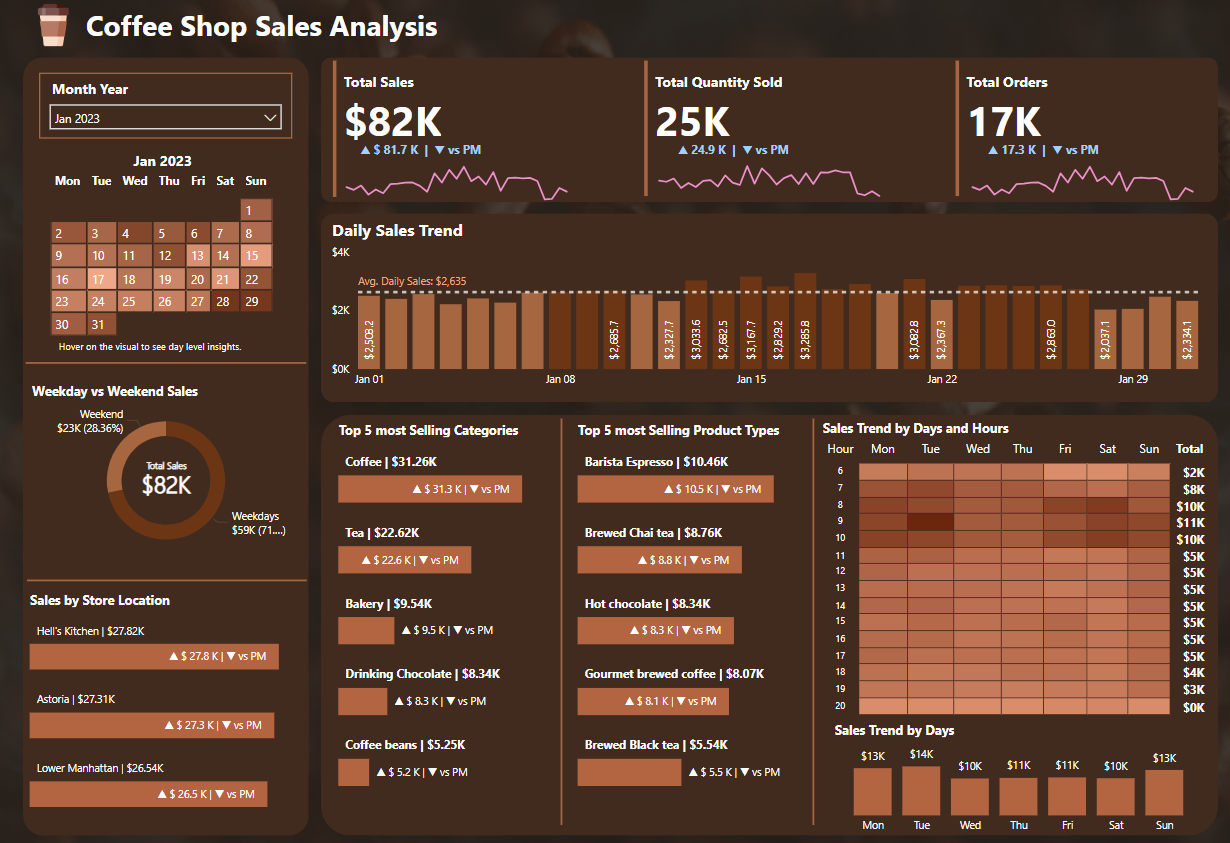

This screenshot's page, from the dashboard's own definition file:
{"tool":"powerbi","page":{"name":"Coffee Sales Dashboard","canvas":[1400,960],"ordinal":0},"visuals":[{"type":"cardVisual","fields":{"Data":["Sum(fact_transactions.sales_amount)"]},"box":[365.9,64.3,300,165.3],"z":0,"group":"g1"},{"type":"cardVisual","fields":{"Data":["Sum(fact_transactions.transaction_qty)"]},"box":[720.1,64.3,300,164.3],"z":0,"group":"g2"},{"type":"cardVisual","fields":{"Data":["fact_transactions.cm_orders"]},"box":[1074.3,64.3,300,164.3],"z":0,"group":"g3"},{"type":"pivotTable","fields":{"Rows":["fact_transactions.week_num"],"Columns":["fact_transactions.Day"],"Values":["Min(fact_transactions.day_num)"]},"box":[33.9,209.1,305.5,182.7],"z":0,"group":"g4"},{"type":"shape","box":[27.5,65,325,885],"z":1000},{"type":"lineChart","fields":{"Y":["Sum(fact_transactions.sales_amount)"],"Category":["dim_date.Date"]},"box":[735.8,169.6,280.5,64.5],"z":1000,"group":"g2"},{"type":"lineChart","fields":{"Y":["Sum(fact_transactions.sales_amount)"],"Category":["dim_date.Date"]},"box":[1092.1,169.7,280.5,64.5],"z":1000,"group":"g3"},{"type":"lineChart","fields":{"Y":["Sum(fact_transactions.sales_amount)"],"Category":["dim_date.Date"]},"box":[380,170,280.5,64.5],"z":1000,"group":"g1"},{"type":"card","fields":{"Values":["Min(dim_date.month_year)"]},"box":[124.8,172.7,123.6,50],"z":1000,"group":"g4"},{"type":"textbox","title":"Coffee Shop Sales Analysis","box":[93.7,7,968.2,188.5],"z":1500},{"type":"shape","box":[365.9,65.3,1020,164.8],"z":2000},{"type":"card","fields":{"Values":["fact_transactions.orders_mom_diff"]},"box":[1080,147.2,215.7,51.4],"z":2000,"group":"g3"},{"type":"card","fields":{"Values":["fact_transactions.quantity_mom_diff"]},"box":[727.8,147.6,215.5,50.5],"z":2000,"group":"g2"},{"type":"card","fields":{"Values":["fact_transactions.sales_mom_diff"]},"box":[372,148,215.5,50.5],"z":2000,"group":"g1"},{"type":"slicer","fields":{"Values":["dim_date.month_year"]},"box":[45.6,83,287.5,74.8],"z":4000},{"type":"group","id":"g1","title":"Group 1","box":[365.9,64.3,300,170.2],"z":5000},{"type":"group","id":"g2","title":"Group 2","box":[720.1,64.3,300,169.8],"z":6000},{"type":"group","id":"g3","title":"Group 3","box":[1074.3,64.3,300,169.9],"z":7000},{"type":"group","id":"g4","title":"Group 4","box":[33.9,172.7,305.5,219.1],"z":8000},{"type":"textbox","box":[63.2,378,266,28],"z":9000},{"type":"shape","box":[30.4,400.8,319,23.4],"z":10000},{"type":"donutChart","title":"Weekday vs Weekend Sales","fields":{"Y":["Sum(fact_transactions.sales_amount)"],"Category":["dim_date.Day Name"]},"box":[32.7,433.6,315.5,206.8],"z":11000},{"type":"shape","box":[31.6,648.6,317.9,22.2],"z":12000},{"type":"card","title":"Total Sales","fields":{"Values":["Sum(fact_transactions.sales_amount)"]},"box":[130.9,516.5,109.8,56.1],"z":13000},{"type":"clusteredBarChart","title":"Sales by Store Location","fields":{"Category":["fact_transactions.store_location"],"Y":["fact_transactions.Placeholder","Sum(fact_transactions.sales_amount)"]},"box":[30.4,670.8,320.8,256.4],"z":14000},{"type":"shape","box":[366.2,242.5,1020,215],"z":15000},{"type":"clusteredColumnChart","title":"Daily Sales Trend","fields":{"Category":["fact_transactions.transaction_date"],"Y":["Sum(fact_transactions.sales_amount)"]},"box":[373.8,248.8,1001.2,202.5],"z":16000},{"type":"shape","box":[366.2,471.2,1020,478.8],"z":17000},{"type":"clusteredBarChart","title":"Top 5 most Selling Categories","fields":{"Y":["fact_transactions.Placeholder","Sum(fact_transactions.sales_amount)"],"Category":["fact_transactions.product_category"]},"box":[381,477.5,250.1,424.2],"z":18000},{"type":"clusteredBarChart","title":"Top 5 most Selling Product Types","fields":{"Y":["fact_transactions.Placeholder","Sum(fact_transactions.sales_amount)"],"Category":["fact_transactions.product_type"]},"box":[653.3,477.5,267.6,424.2],"z":19000},{"type":"shape","box":[631.2,476.2,16.2,462.5],"z":20000},{"type":"shape","box":[921.2,476.2,10,462.5],"z":21000},{"type":"pivotTable","title":"Sales Trend by Days and Hours","fields":{"Rows":["fact_transactions.Hour"],"Columns":["fact_transactions.Day"],"Values":["Sum(fact_transactions.sales_amount)"]},"box":[931.2,477.5,455,326.2],"z":22000},{"type":"image","box":[28.8,0,66.2,57.5],"z":23000},{"type":"clusteredColumnChart","title":"Sales Trend by Days","fields":{"Category":["fact_transactions.Day"],"Y":["Sum(fact_transactions.sales_amount)"]},"box":[945,810,430,140],"z":24000}]}

Visuals, with their boxes in screenshot pixels (x1, y1, x2, y2), scaled from the page's 1400x960 canvas onto the 1230x843 screenshot:
cardVisual - Sum(fact_transactions.sales_amount): select_region(321, 56, 585, 202)
cardVisual - Sum(fact_transactions.transaction_qty): select_region(633, 56, 896, 201)
cardVisual - fact_transactions.cm_orders: select_region(944, 56, 1207, 201)
pivotTable - fact_transactions.week_num x fact_transactions.Day: select_region(30, 184, 298, 344)
shape: select_region(24, 57, 310, 834)
lineChart - Sum(fact_transactions.sales_amount) x dim_date.Date: select_region(646, 149, 893, 206)
lineChart - Sum(fact_transactions.sales_amount) x dim_date.Date: select_region(959, 149, 1206, 206)
lineChart - Sum(fact_transactions.sales_amount) x dim_date.Date: select_region(334, 149, 580, 206)
card - Min(dim_date.month_year): select_region(110, 152, 218, 196)
"Coffee Shop Sales Analysis" textbox: select_region(82, 6, 933, 172)
shape: select_region(321, 57, 1218, 202)
card - fact_transactions.orders_mom_diff: select_region(949, 129, 1138, 174)
card - fact_transactions.quantity_mom_diff: select_region(639, 130, 829, 174)
card - fact_transactions.sales_mom_diff: select_region(327, 130, 516, 174)
slicer - dim_date.month_year: select_region(40, 73, 293, 139)
"Group 1" group: select_region(321, 56, 585, 206)
"Group 2" group: select_region(633, 56, 896, 206)
"Group 3" group: select_region(944, 56, 1207, 206)
"Group 4" group: select_region(30, 152, 298, 344)
textbox: select_region(56, 332, 289, 357)
shape: select_region(27, 352, 307, 373)
"Weekday vs Weekend Sales" donutChart: select_region(29, 381, 306, 562)
shape: select_region(28, 570, 307, 589)
"Total Sales" card: select_region(115, 454, 211, 503)
"Sales by Store Location" clusteredBarChart: select_region(27, 589, 309, 814)
shape: select_region(322, 213, 1218, 402)
"Daily Sales Trend" clusteredColumnChart: select_region(328, 218, 1208, 396)
shape: select_region(322, 414, 1218, 834)
"Top 5 most Selling Categories" clusteredBarChart: select_region(335, 419, 554, 792)
"Top 5 most Selling Product Types" clusteredBarChart: select_region(574, 419, 809, 792)
shape: select_region(555, 418, 569, 824)
shape: select_region(809, 418, 818, 824)
"Sales Trend by Days and Hours" pivotTable: select_region(818, 419, 1218, 706)
image: select_region(25, 0, 83, 50)
"Sales Trend by Days" clusteredColumnChart: select_region(830, 711, 1208, 834)
